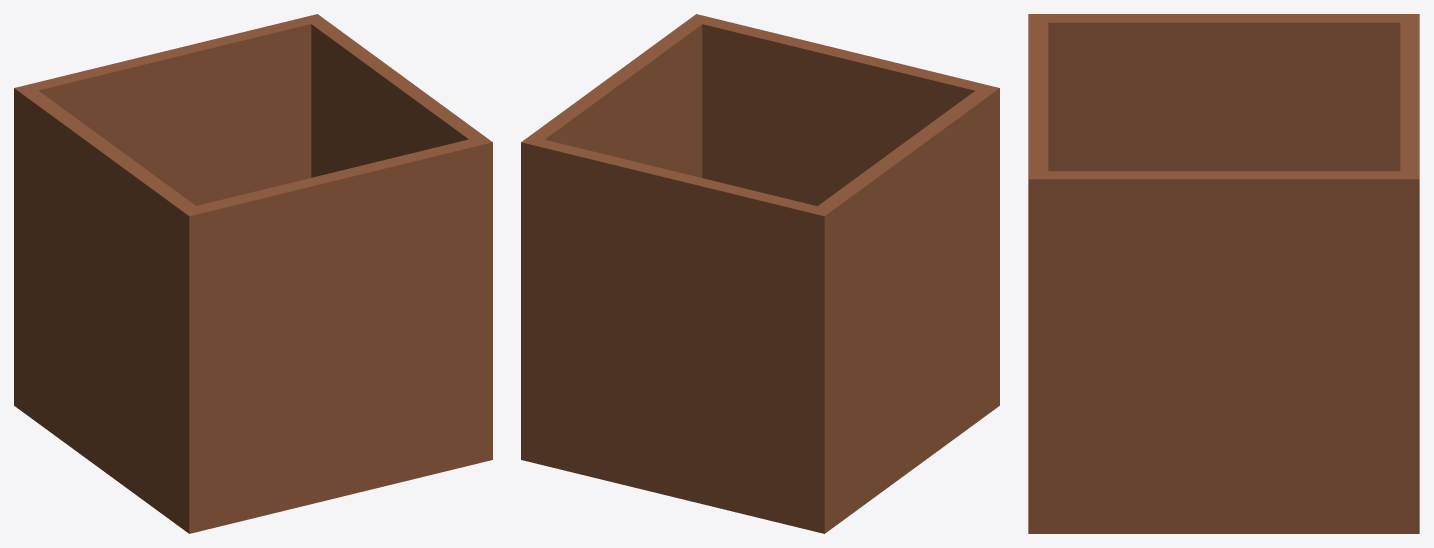
3 views of the same model, side by side, from view 1: azimuth 30°, elevation 25°; view 2: azimuth 150°, elevation 25°; view 3: azimuth 270°, elevation 25° (orthographic). The views are drawn at different scales.
Parts seen in each view (by area): view 1: Box; view 2: Box; view 3: Box.
Boxes of the visible parts, x1,y1,x2,y2 form: Box: (14, 14, 492, 533); Box: (521, 14, 999, 533); Box: (1028, 14, 1419, 533).
Bounding box in the file's own units: 200 × 200 × 200.
